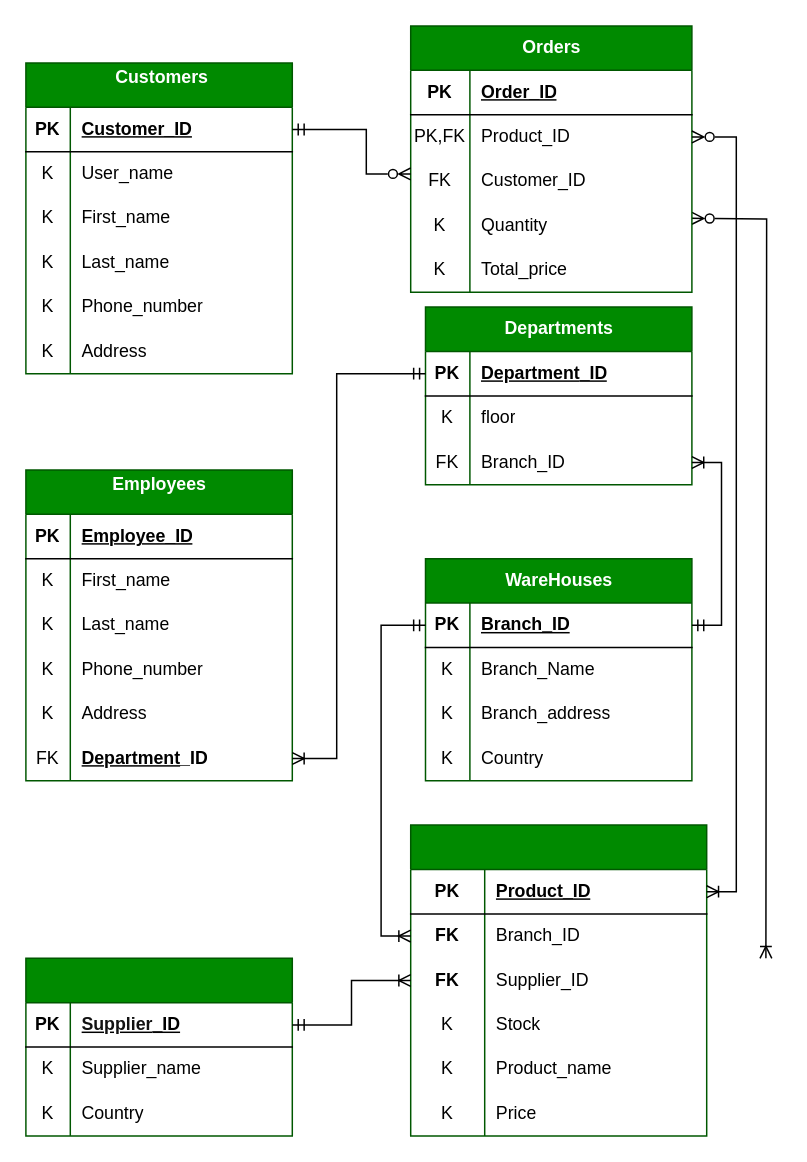
The diagram is 807 pixels wide and 1162 high, and some of its shapes have lost their labels. The shapes that lost their labels are listed below. From the top down, each one's box as (x1, y1, x2, y2) in pixels, then its label:
(409, 824, 707, 1136): Inventory
(24, 957, 292, 1136): Suppliers
